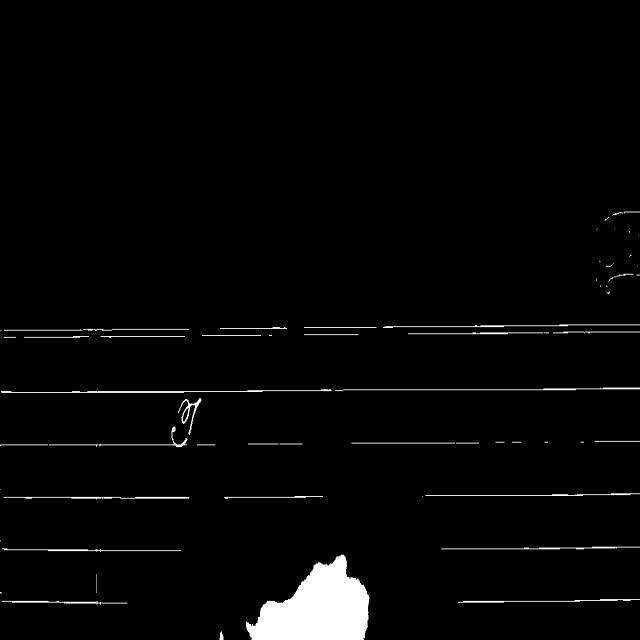hand: (246, 556, 368, 639), (219, 631, 224, 639)
noise: (0, 386, 640, 395), (382, 324, 640, 335), (0, 542, 181, 554), (0, 328, 192, 338), (440, 544, 640, 552), (2, 493, 190, 500), (421, 490, 640, 496), (458, 597, 640, 604), (201, 326, 288, 337), (2, 599, 128, 606), (224, 491, 323, 499), (303, 326, 378, 336), (350, 440, 482, 444), (0, 443, 176, 446), (580, 439, 640, 444), (246, 441, 304, 446), (489, 439, 529, 444), (542, 436, 554, 444), (194, 442, 217, 446), (96, 573, 96, 594)
not-noise: (170, 398, 201, 447)
page-marker: (596, 211, 640, 292)
